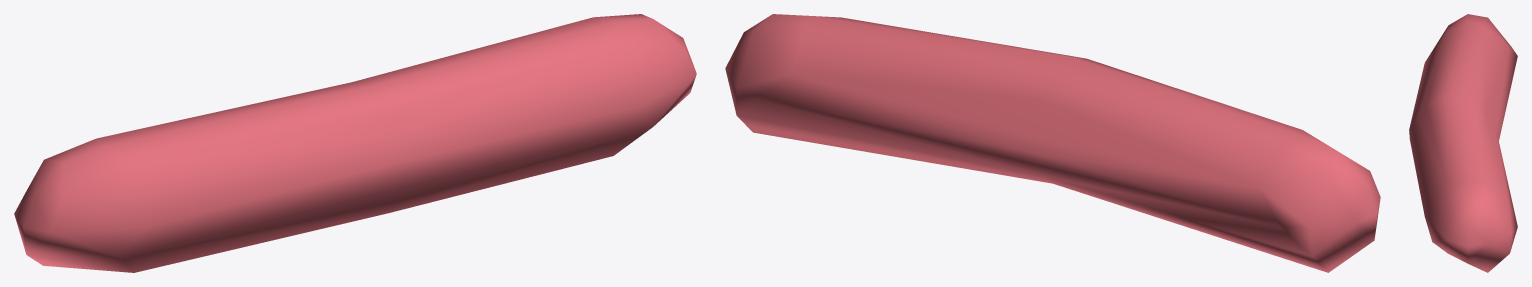
The picture shows the model from 3 angles, left to right: view 1: azimuth 30°, elevation 25°; view 2: azimuth 150°, elevation 25°; view 3: azimuth 270°, elevation 25°; orthographic projection. The views are drawn at different scales.
Parts seen in each view (by area): view 1: ZA_18bf6f680376016a; view 2: ZA_18bf6f680376016a; view 3: ZA_18bf6f680376016a.
Part boxes in pixels (x1,y1,x2,y2): ZA_18bf6f680376016a: (14,14,696,272); ZA_18bf6f680376016a: (725,14,1380,272); ZA_18bf6f680376016a: (1409,14,1517,272).
Bounding box in the file's own units: 0.00721 × 0.00133 × 0.00158.
